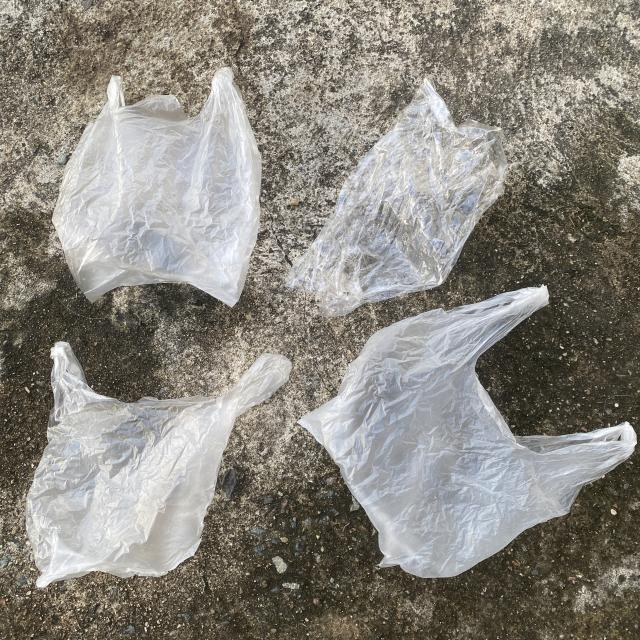Single-layer Plastic: (299, 286, 636, 578), (26, 341, 291, 588), (286, 79, 508, 316), (52, 68, 261, 306)
